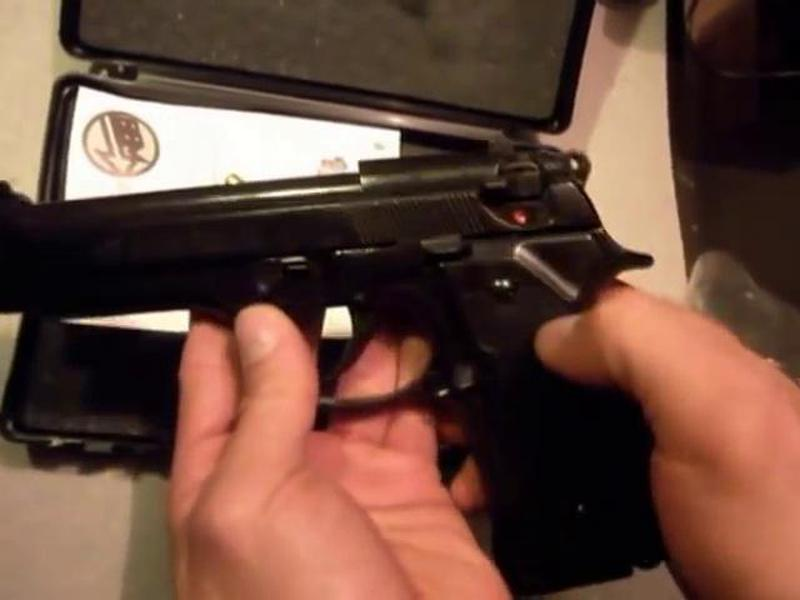Pistola: (1, 131, 657, 524)
